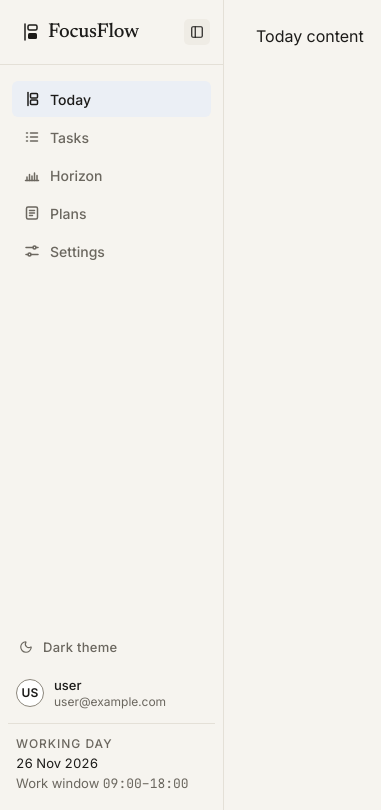
Test: AppShell › collapses the sidebar to an icon rail and expands it again
Step 1. Click the button named "collapse sidebar" → point(197, 32), box [183,18,211,46]
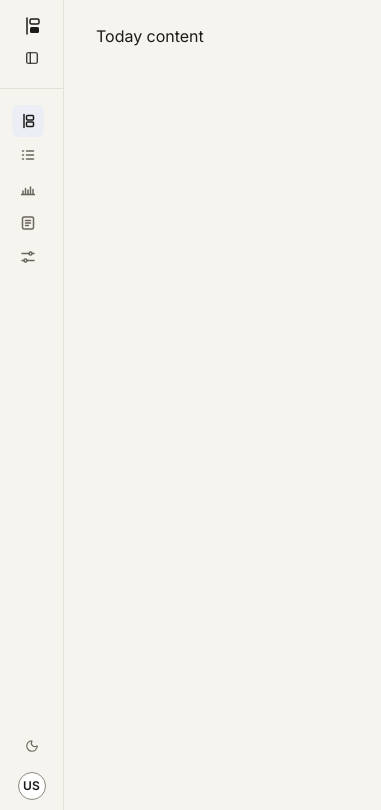
Check: the button named "expand sidebar" is collapsed
Step 2. Click the button named "expand sidebar" → point(32, 58), box [18,44,46,72]
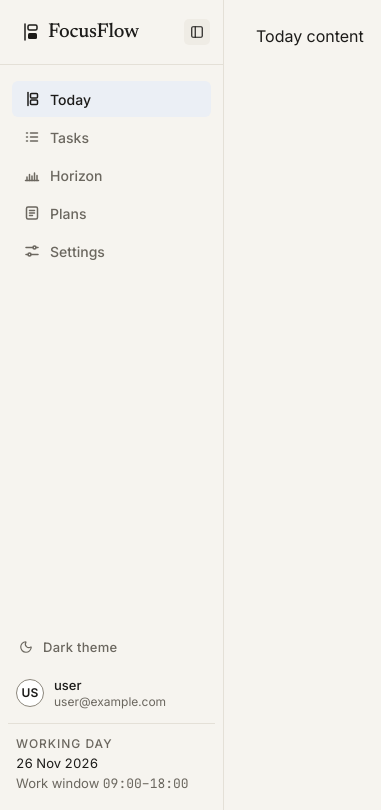
Check: the button named "collapse sidebar" is expanded, box [183,18,211,46]
